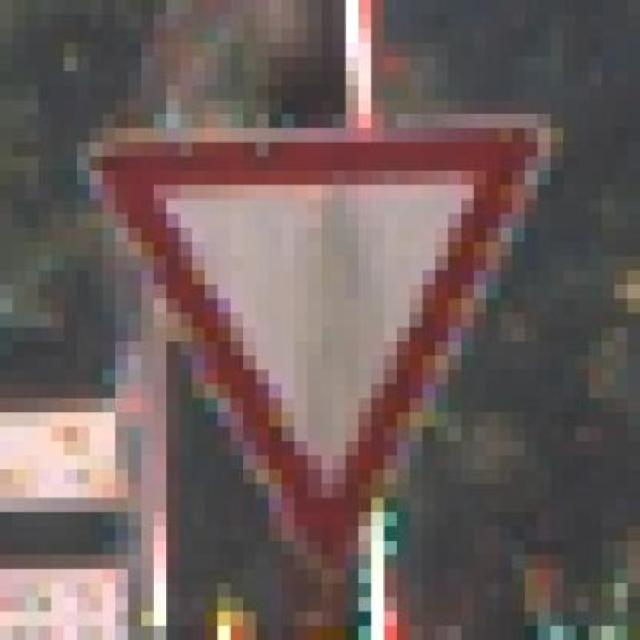Give Way: (64, 99, 576, 598)
